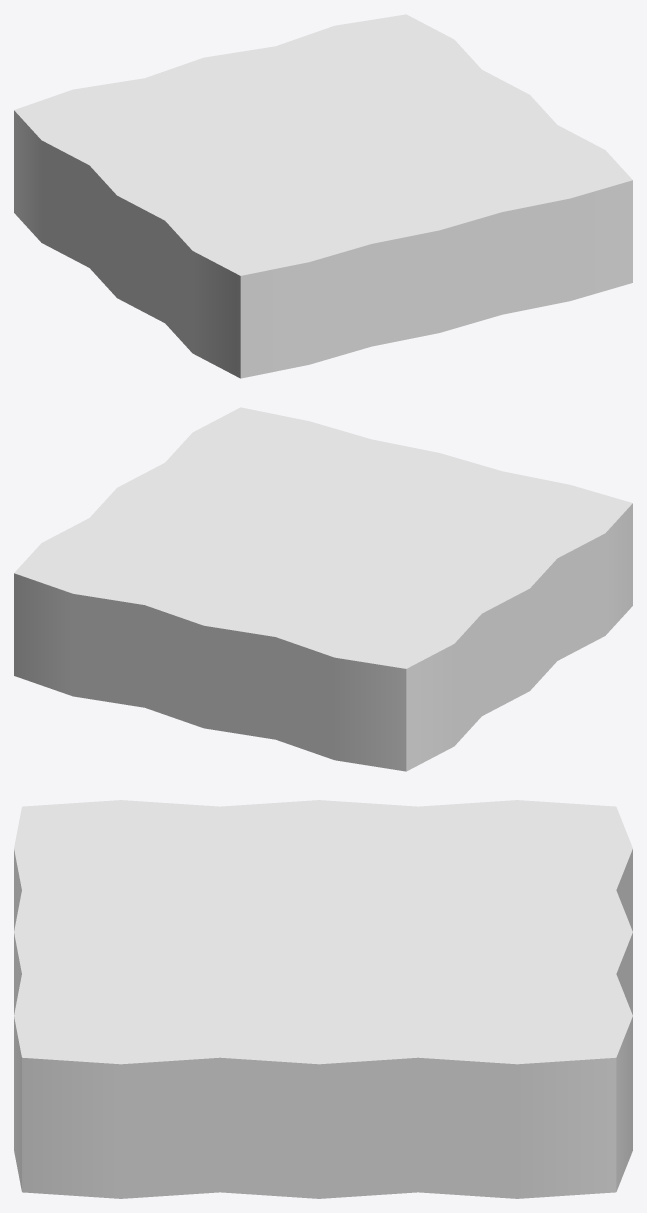
Rendered from jaggeredTile-10b_col.fbx.
The picture shows the model from 3 angles, top to bottom: view 1: azimuth 30°, elevation 25°; view 2: azimuth 150°, elevation 25°; view 3: azimuth 270°, elevation 25°; orthographic projection. The views are drawn at different scales.
Visible parts, largest first — view 1: jaggeredTile-10b.col; view 2: jaggeredTile-10b.col; view 3: jaggeredTile-10b.col.
Part boxes in pixels (<box>): jaggeredTile-10b.col: <box>14,14,632,378</box>; jaggeredTile-10b.col: <box>14,407,632,771</box>; jaggeredTile-10b.col: <box>14,800,632,1198</box>.
Bounding box in the file's own units: 2.1 × 0.5 × 2.08.
1 material, 1 textured.
